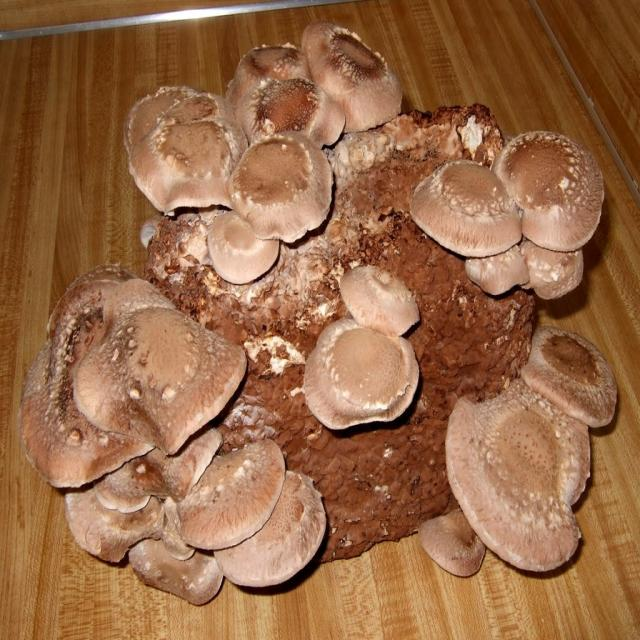Mushroom: (29, 260, 248, 522), (64, 420, 280, 593), (118, 14, 406, 130), (452, 393, 599, 581), (210, 457, 324, 601), (300, 311, 417, 428), (496, 137, 605, 245), (224, 137, 336, 240), (399, 168, 519, 252), (135, 113, 222, 225), (521, 336, 612, 431), (342, 265, 418, 340), (422, 495, 487, 578), (204, 202, 272, 275), (516, 240, 581, 296), (466, 253, 524, 296)
